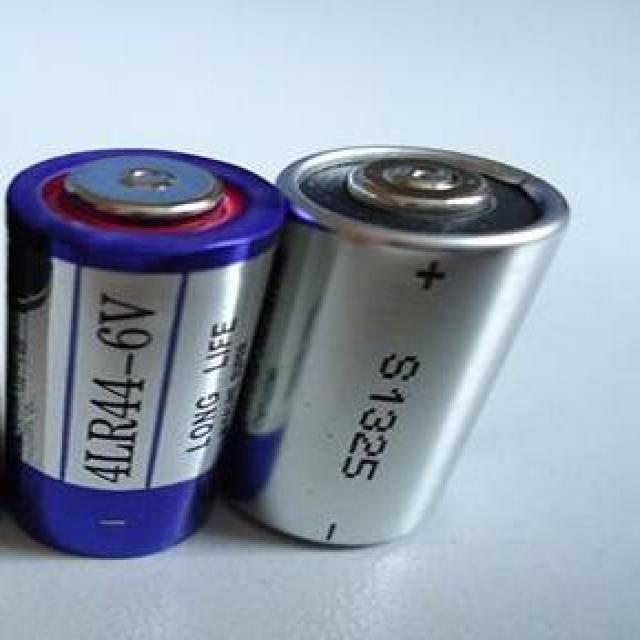-Hazardous waste - battery-: (231, 144, 570, 548), (2, 147, 278, 558)
